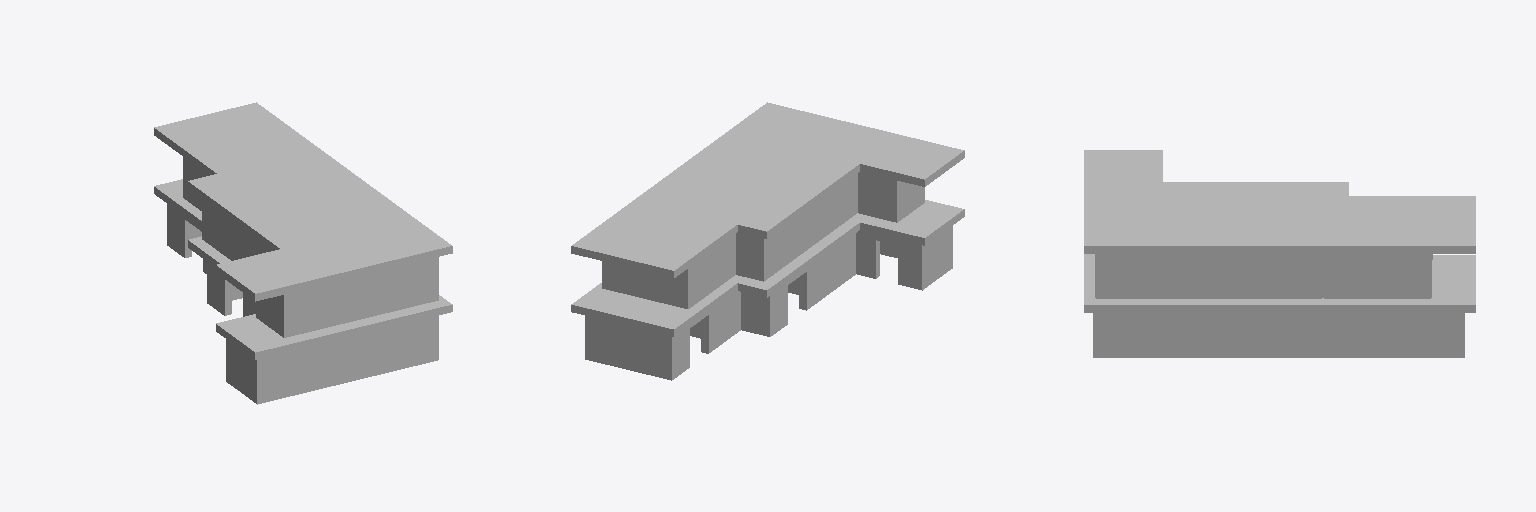
Rendered from enemy_house.obj.
3 views of the same model, side by side, from view 1: azimuth 30°, elevation 25°; view 2: azimuth 150°, elevation 25°; view 3: azimuth 270°, elevation 25° (orthographic).
Visible parts, largest first — view 1: polySurface21; view 2: polySurface21; view 3: polySurface21.
Part boxes in pixels (bbox=[...]): polySurface21: bbox=[154, 102, 452, 404]; polySurface21: bbox=[571, 102, 964, 380]; polySurface21: bbox=[1084, 150, 1475, 357].
Size of the model in its own units: 20.46 by 11.46 by 35.23.